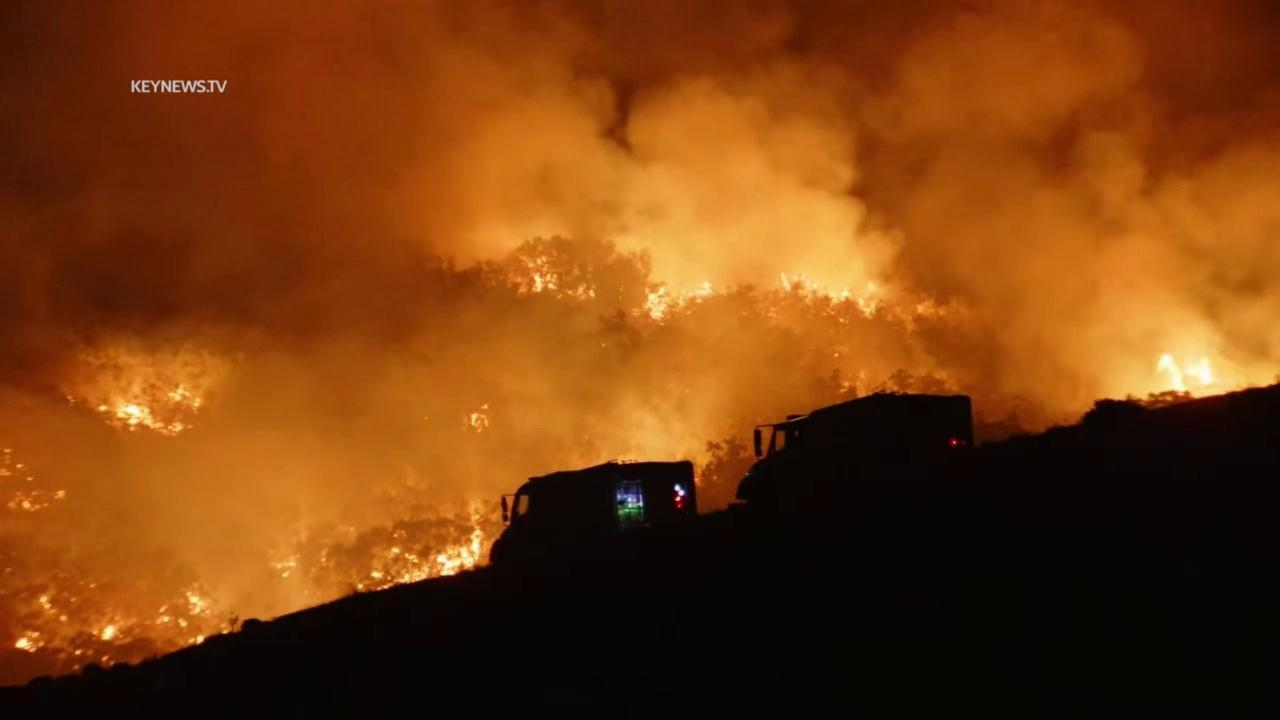fire: (355, 526, 484, 594), (96, 383, 207, 440), (641, 279, 714, 332), (523, 255, 601, 301), (1152, 351, 1218, 398), (774, 269, 838, 308), (6, 488, 72, 513), (840, 285, 880, 319), (12, 627, 46, 657), (462, 399, 490, 434), (184, 588, 213, 616), (267, 554, 298, 579), (96, 619, 119, 642), (154, 602, 173, 625), (40, 594, 58, 615), (186, 632, 204, 646), (177, 617, 189, 628)
smoke: (0, 0, 1280, 692)
